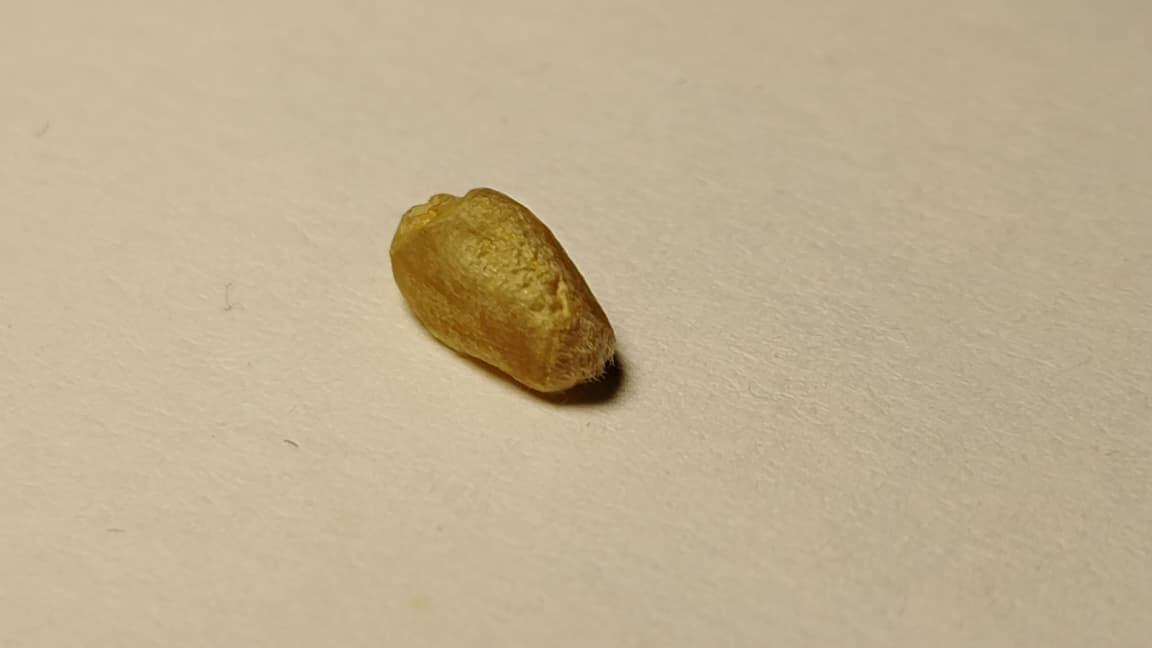healthy: (391, 187, 613, 391)
